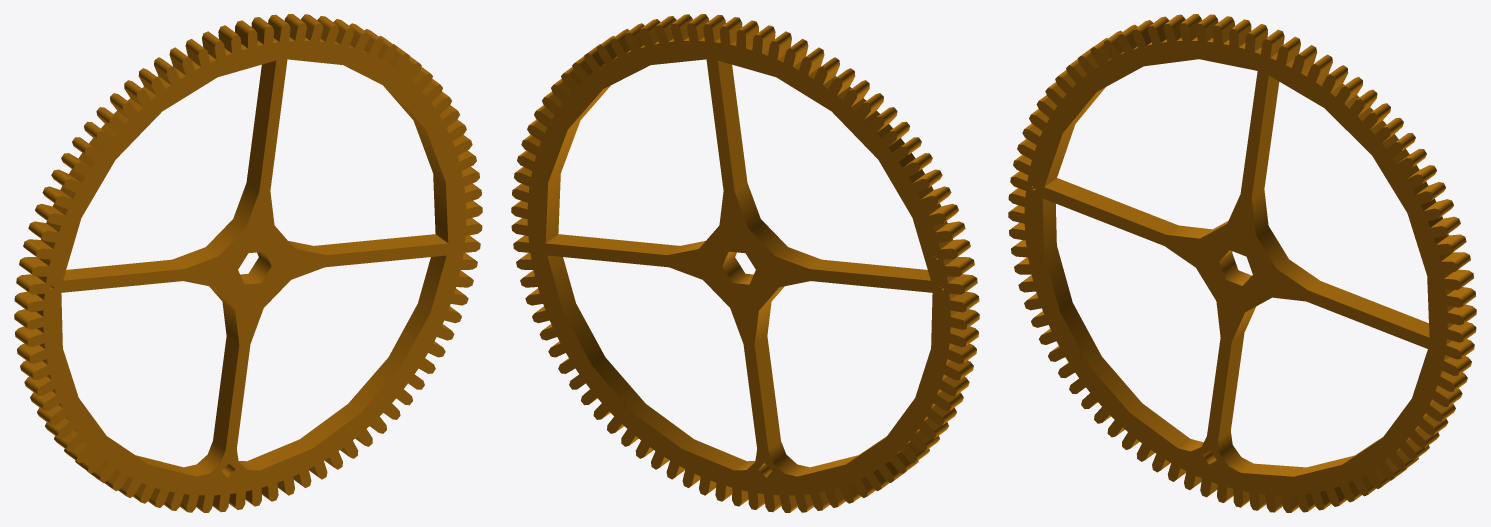
File: Copie de Roue Ass 003 84 dents^Copie de Assemblage 03_Copie de ASS BARI_Horloge Comtoise Verge - Sonnerie.obj
3 views of the same model, side by side, from view 1: azimuth 30°, elevation 25°; view 2: azimuth 150°, elevation 25°; view 3: azimuth 330°, elevation 25° (orthographic).
Visible parts, largest first — view 1: Face_1, Face_4, Face_10, Face_7, Face_264, Face_270, Face_271, Face_8, Face_265, Face_272, Face_263; view 2: Face_275, Face_4, Face_10, Face_7, Face_264, Face_270, Face_271, Face_8, Face_265, Face_272, Face_263; view 3: Face_1, Face_266, Face_8, Face_268, Face_271, Face_269, Face_6, Face_4, Face_9, Face_5, Face_272.
Part boxes in pixels (bbox=[...]): Face_1: bbox=[27, 23, 482, 512]; Face_4: bbox=[247, 255, 446, 470]; Face_10: bbox=[246, 60, 276, 191]; Face_7: bbox=[172, 183, 258, 268]; Face_264: bbox=[213, 336, 239, 449]; Face_270: bbox=[383, 85, 448, 242]; Face_271: bbox=[314, 234, 447, 255]; Face_8: bbox=[63, 259, 184, 280]; Face_265: bbox=[184, 441, 225, 476]; Face_272: bbox=[240, 251, 271, 284]; Face_263: bbox=[209, 286, 239, 344]; Face_275: bbox=[511, 23, 966, 512]; Face_4: bbox=[547, 255, 746, 470]; Face_10: bbox=[717, 60, 747, 191]; Face_7: bbox=[735, 183, 821, 268]; Face_264: bbox=[754, 336, 780, 449]; Face_270: bbox=[545, 85, 610, 242]; Face_271: bbox=[546, 234, 679, 255]; Face_8: bbox=[809, 259, 930, 280]; Face_265: bbox=[768, 441, 809, 476]; Face_272: bbox=[722, 251, 753, 284]; Face_263: bbox=[754, 286, 784, 344]; Face_1: bbox=[1008, 23, 1463, 512]; Face_266: bbox=[1042, 198, 1189, 447]; Face_8: bbox=[1044, 178, 1178, 234]; Face_268: bbox=[1251, 189, 1319, 289]; Face_271: bbox=[1308, 281, 1429, 337]; Face_269: bbox=[1252, 75, 1279, 197]; Face_6: bbox=[1218, 333, 1244, 439]; Face_4: bbox=[1241, 437, 1382, 476]; Face_9: bbox=[1044, 87, 1105, 186]; Face_5: bbox=[1218, 431, 1253, 472]; Face_272: bbox=[1219, 250, 1251, 285].
Bounding box in the file's own units: 0.0807 × 0.0807 × 0.0039.
